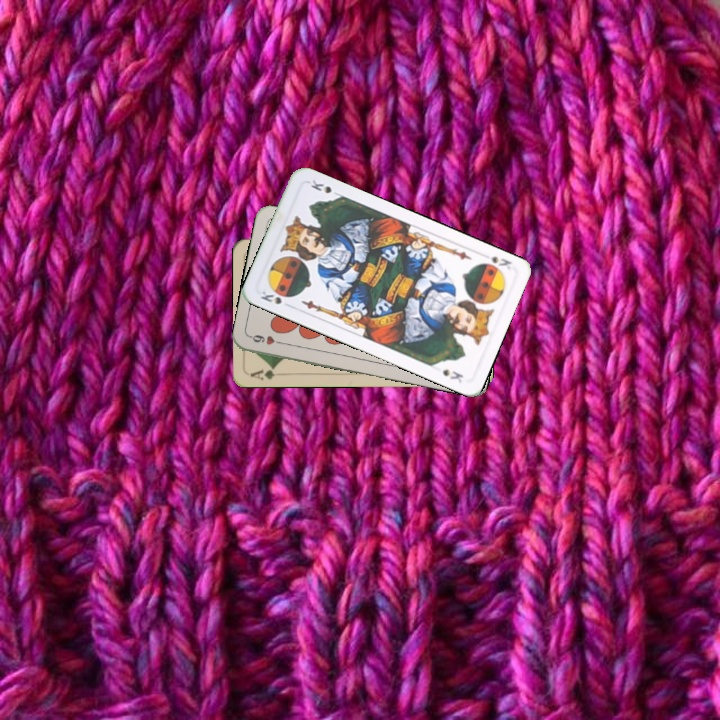GA: (248, 363, 279, 383)
H9: (246, 331, 287, 347)
SK: (256, 287, 294, 310), (486, 252, 514, 272)
